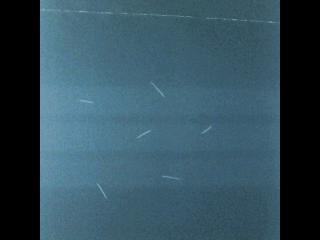crack: (41, 5, 279, 25)
scratch: (145, 75, 171, 103), (188, 113, 216, 135), (132, 126, 155, 141), (95, 181, 109, 200), (161, 174, 183, 181), (78, 98, 94, 104)
